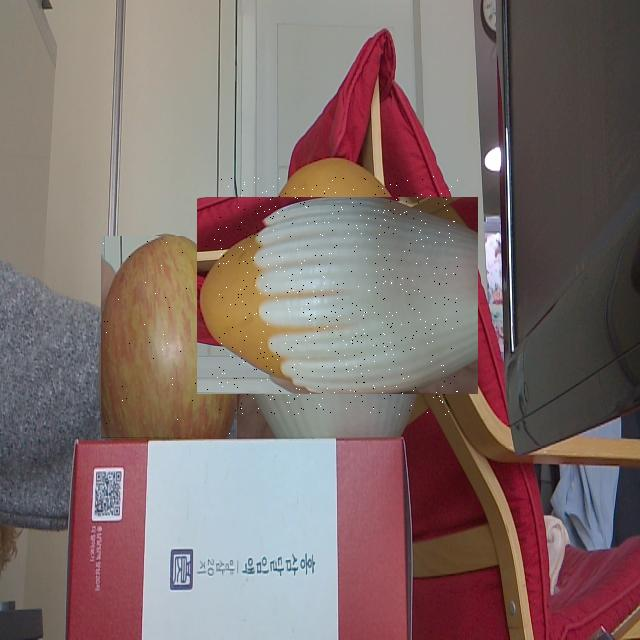apple: (101, 236, 237, 439)
pear: (218, 176, 458, 415)
